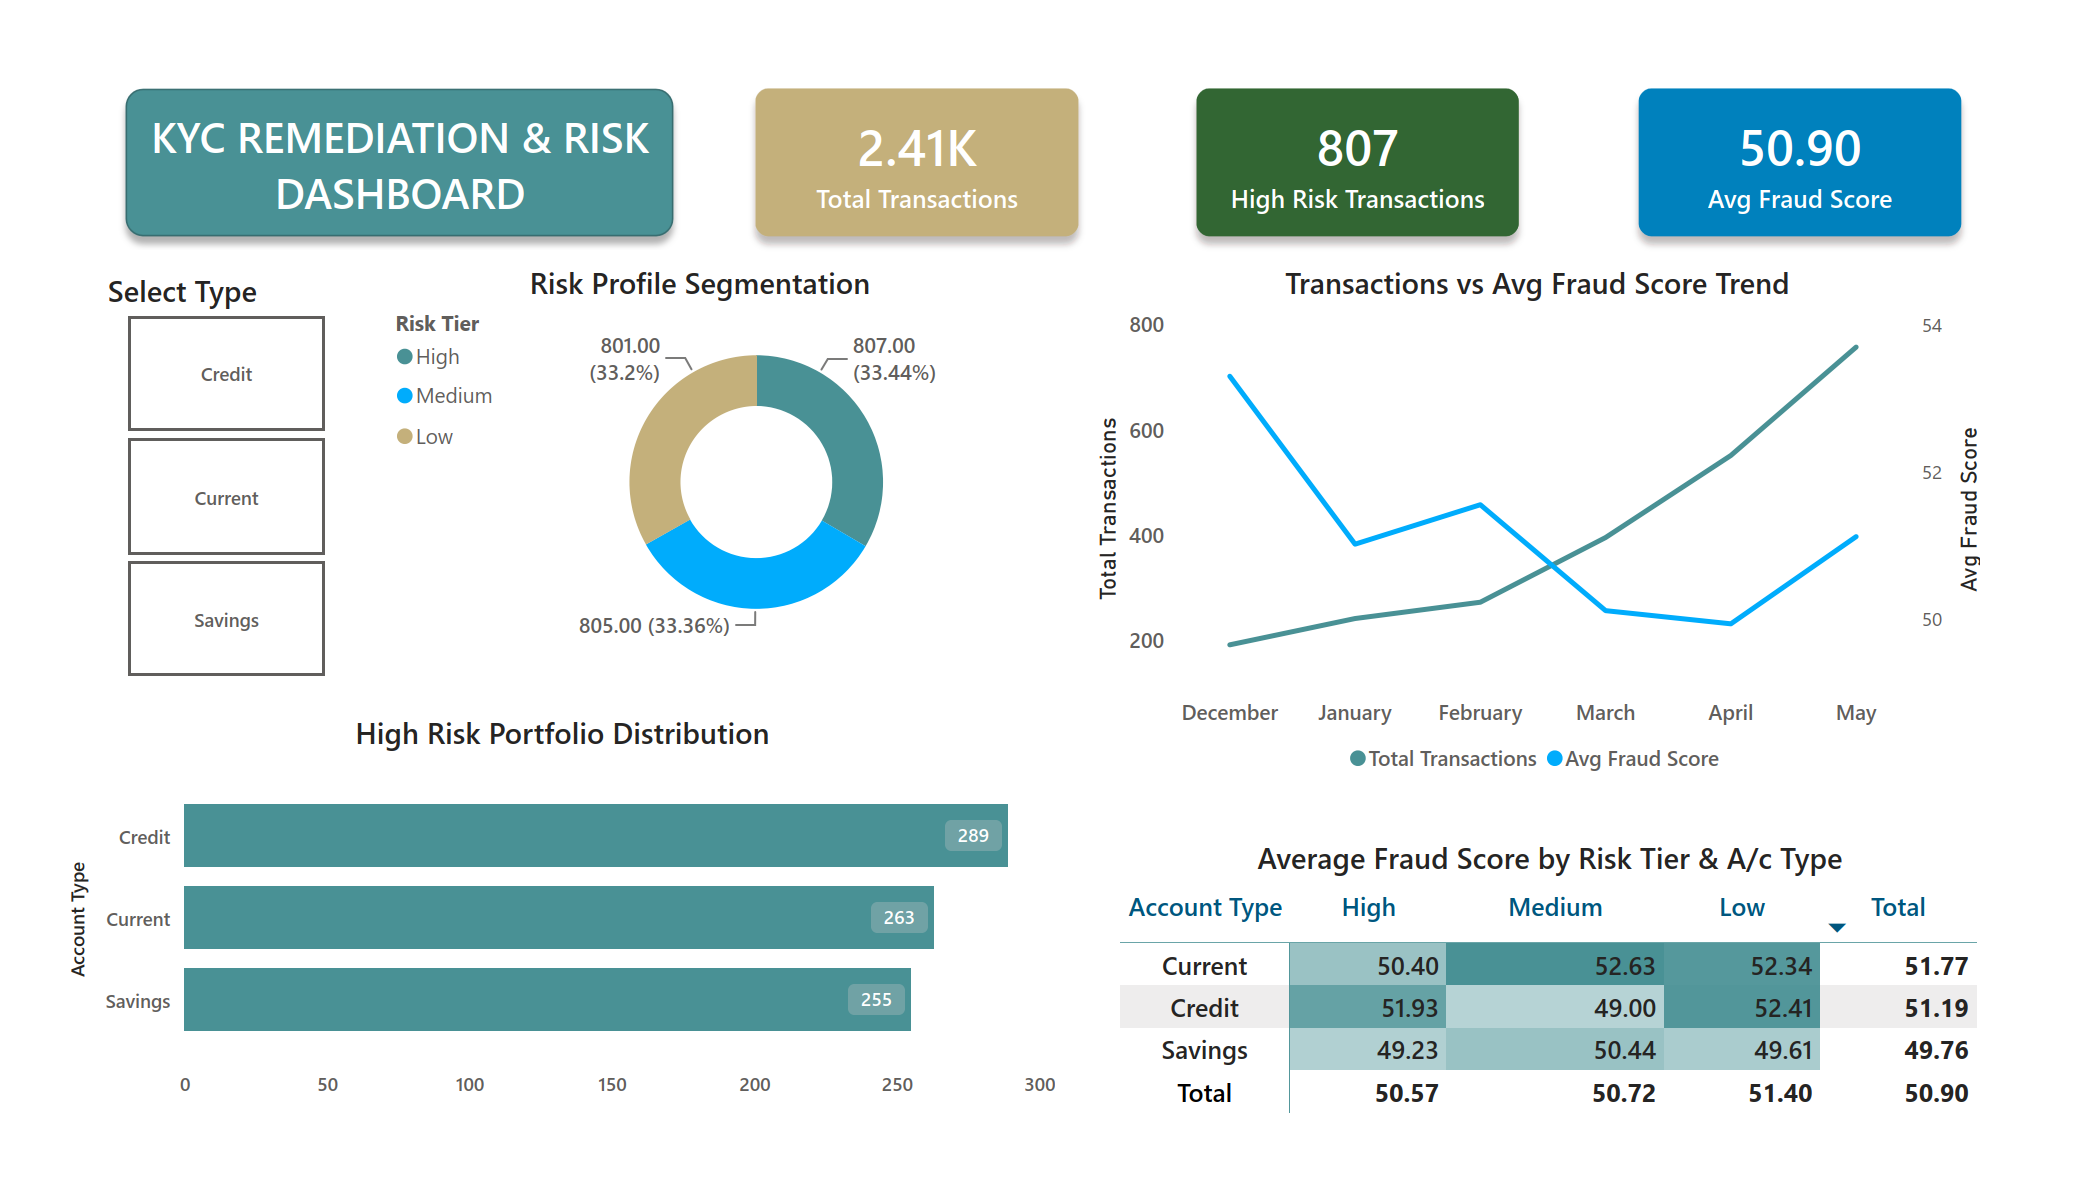

What the dashboard file says about the page in this screenshot:
{"tool":"powerbi","page":{"name":"Dashboard","canvas":[1280,720],"ordinal":0},"visuals":[{"type":"cardVisual","fields":{"Data":["_All_Measures.Total Transactions"]},"box":[442.7,16,240,128],"z":0},{"type":"cardVisual","fields":{"Data":["_All_Measures.High Risk Transactions"]},"box":[725.3,16,240,128],"z":1000},{"type":"cardVisual","fields":{"Data":["_All_Measures.Avg Fraud Score"]},"box":[1008,16,240,128],"z":2000},{"type":"lineChart","title":"Transactions vs Avg Fraud Score Trend","fields":{"Y":["_All_Measures.Total Transactions"],"Category":["Dim_Date.MonthName"],"Y2":["_All_Measures.Avg Fraud Score"]},"box":[672,144,576,336],"z":3000},{"type":"donutChart","title":"Risk Profile Segmentation","fields":{"Category":["sql_cleaned_data.risk_tier"],"Y":["_All_Measures.Total Transactions"]},"box":[224,144,400,256],"z":4000},{"type":"clusteredBarChart","title":"High Risk Portfolio Distribution","fields":{"Y":["_All_Measures.High Risk Transactions"],"Category":["sql_cleaned_data.account_type"]},"box":[16,432,640,256],"z":5000},{"type":"slicer","fields":{"Values":["sql_cleaned_data.account_type"]},"box":[32,144,176,272],"z":6000},{"type":"pivotTable","title":"Average Fraud Score by Risk Tier & A/c Type","fields":{"Rows":["sql_cleaned_data.account_type"],"Columns":["sql_cleaned_data.risk_tier"],"Values":["_All_Measures.Avg Fraud Score"]},"box":[688,512,560,192],"z":7000},{"type":"shape","box":[48,24,368,112],"z":8000,"group":"g1"},{"type":"textbox","box":[64,40,336,120],"z":9000,"group":"g1"},{"type":"group","id":"g1","title":"Group 1","box":[48,24,368,136],"z":9001}]}

Visuals, with their boxes on the page's 1280x720 design canvas (x1, y1, x2, y2). These are canvas units, not pixel positions in the 2075x1200 screenshot, which may show the page scaled, cropped or inside an application window:
cardVisual - _All_Measures.Total Transactions: bbox(443, 16, 683, 144)
cardVisual - _All_Measures.High Risk Transactions: bbox(725, 16, 965, 144)
cardVisual - _All_Measures.Avg Fraud Score: bbox(1008, 16, 1248, 144)
"Transactions vs Avg Fraud Score Trend" lineChart: bbox(672, 144, 1248, 480)
"Risk Profile Segmentation" donutChart: bbox(224, 144, 624, 400)
"High Risk Portfolio Distribution" clusteredBarChart: bbox(16, 432, 656, 688)
slicer - sql_cleaned_data.account_type: bbox(32, 144, 208, 416)
"Average Fraud Score by Risk Tier & A/c Type" pivotTable: bbox(688, 512, 1248, 704)
shape: bbox(48, 24, 416, 136)
textbox: bbox(64, 40, 400, 160)
"Group 1" group: bbox(48, 24, 416, 160)
